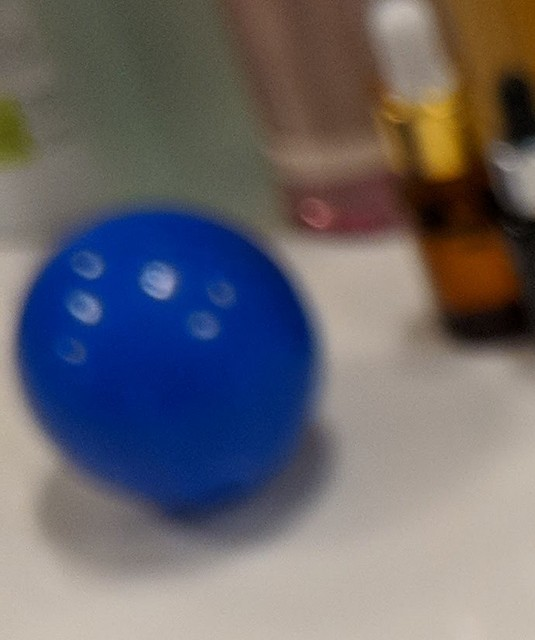ball: (12, 201, 325, 525)
